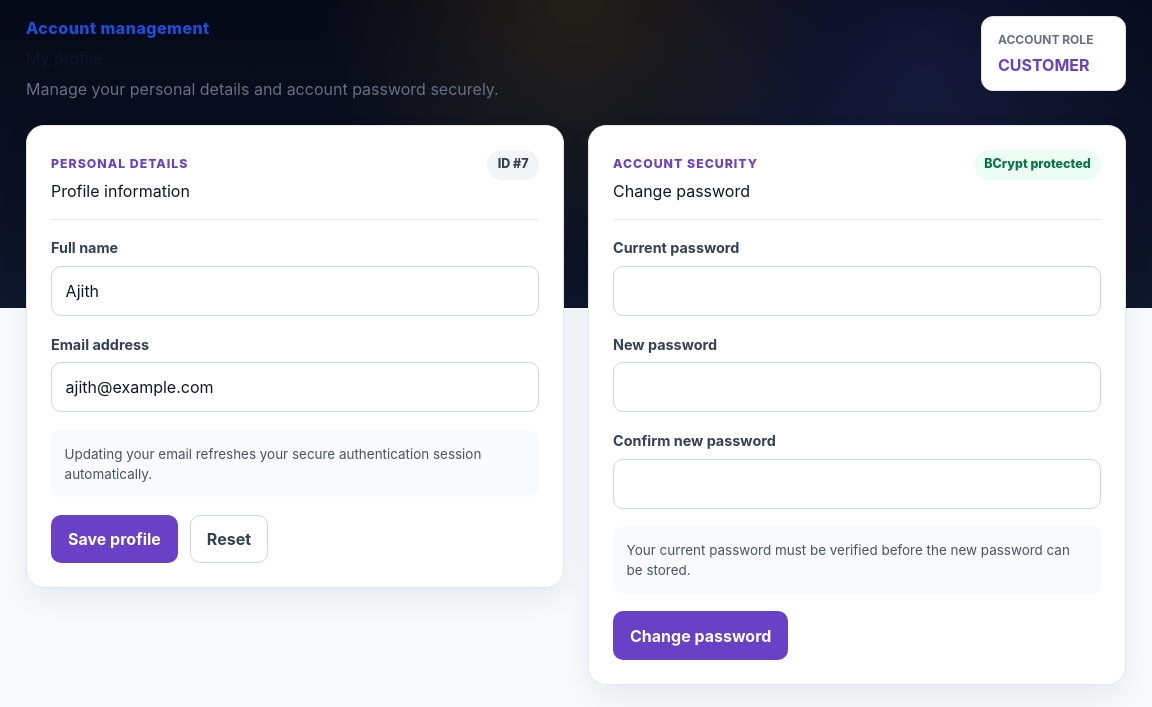
ProfilePage › validates password confirmation
Expected: the field showing "Ajith" is shown, [51,266,539,316]
Type "CurrentPass123" into the password field labelled "Current password". click: {"x": 857, "y": 291}
box: [613,266,1101,316]
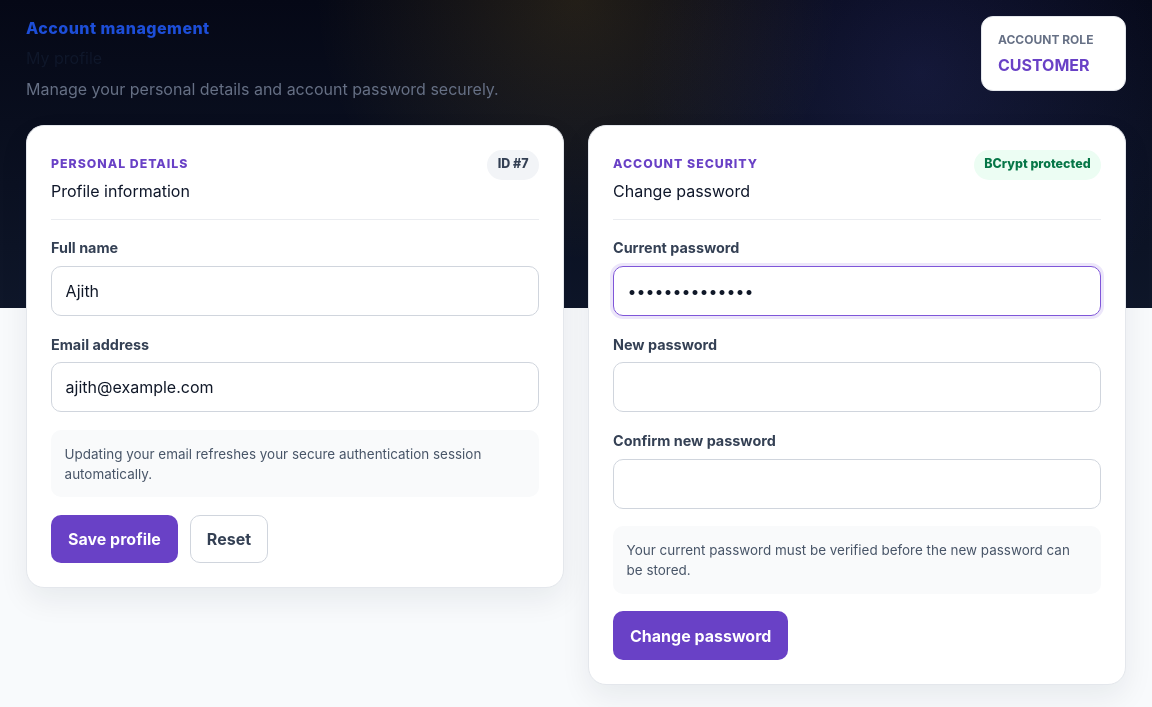
Type "NewSecurePass123" into the password field labelled "New password". click: {"x": 857, "y": 387}
box: [613,362,1101,412]
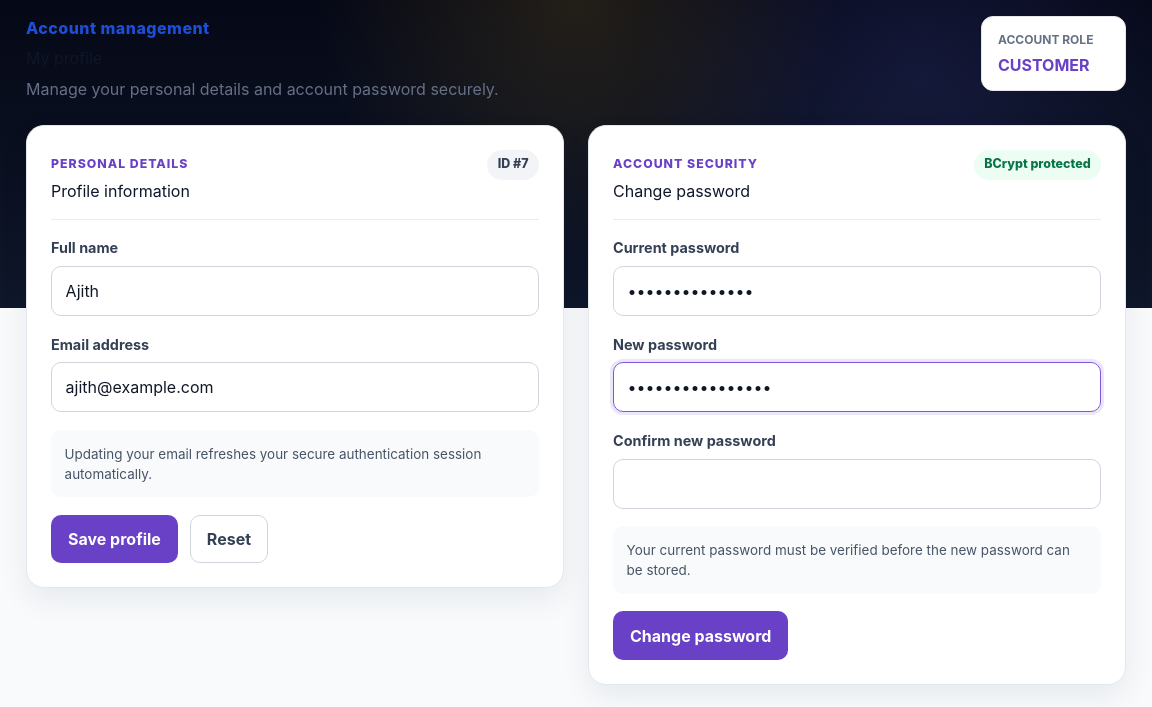
Type "DifferentPass123" into the password field labelled "Confirm new password". click: {"x": 857, "y": 484}
box: [613,459,1101,509]
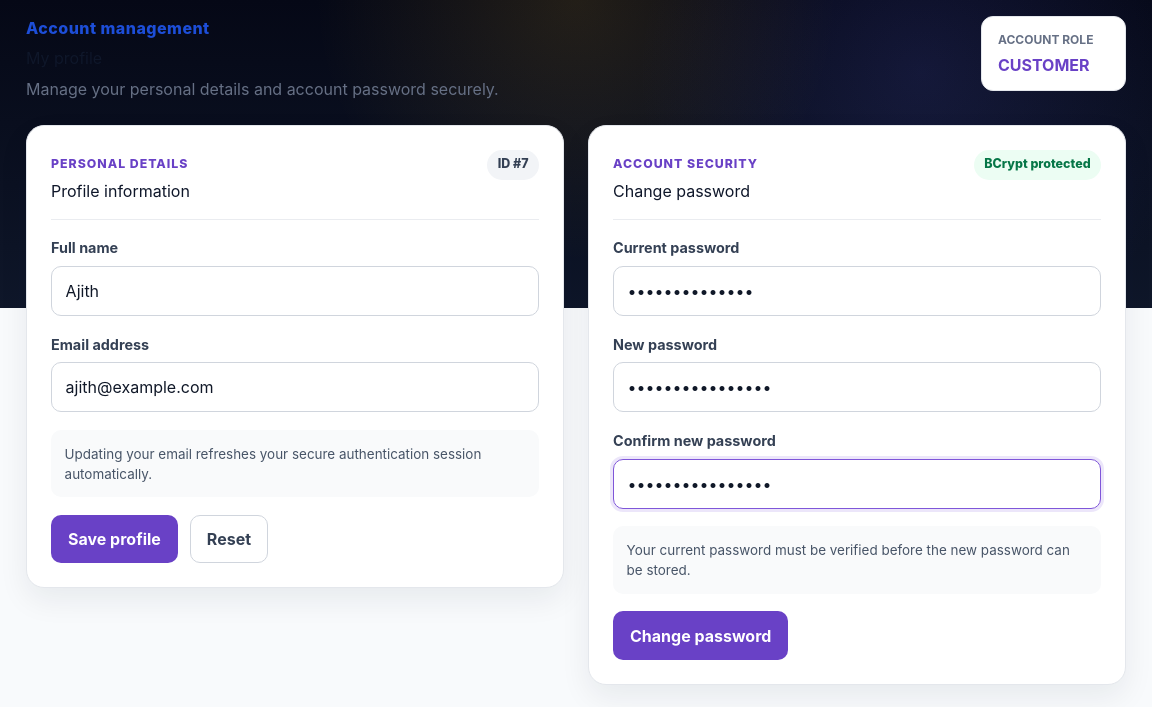
Click the button "Change password". click: {"x": 701, "y": 636}
box: [613,611,788,660]
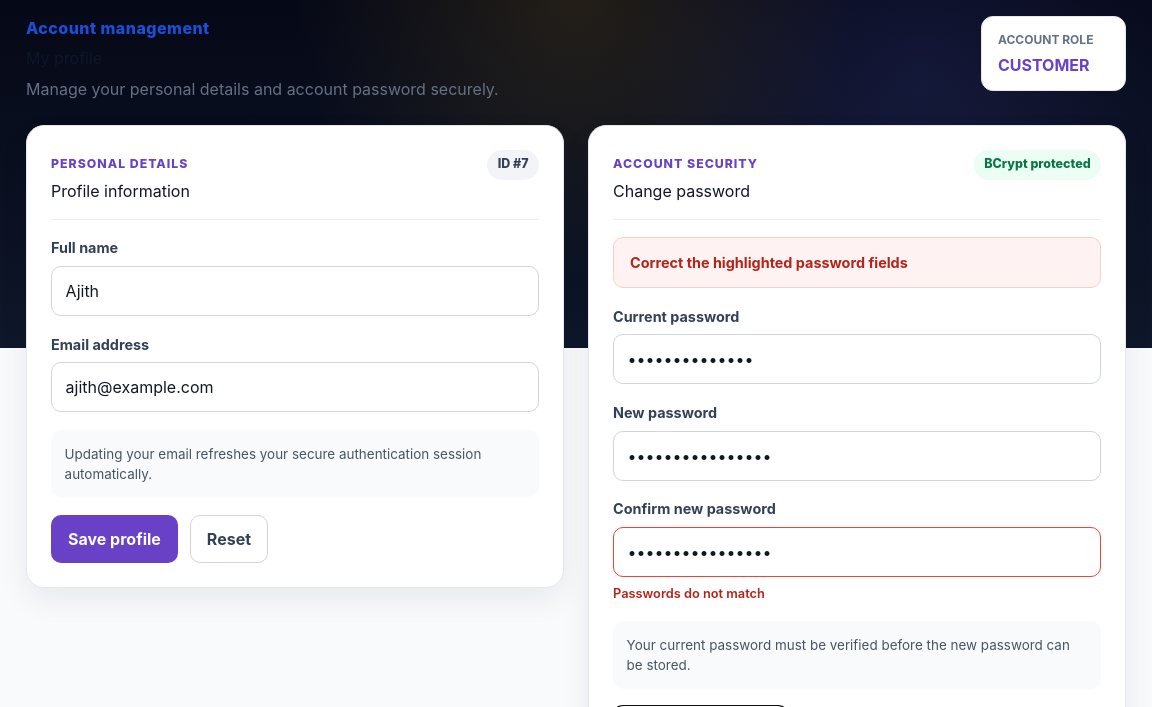
Result: the text "Passwords do not match" is shown at [613,586,765,601]
